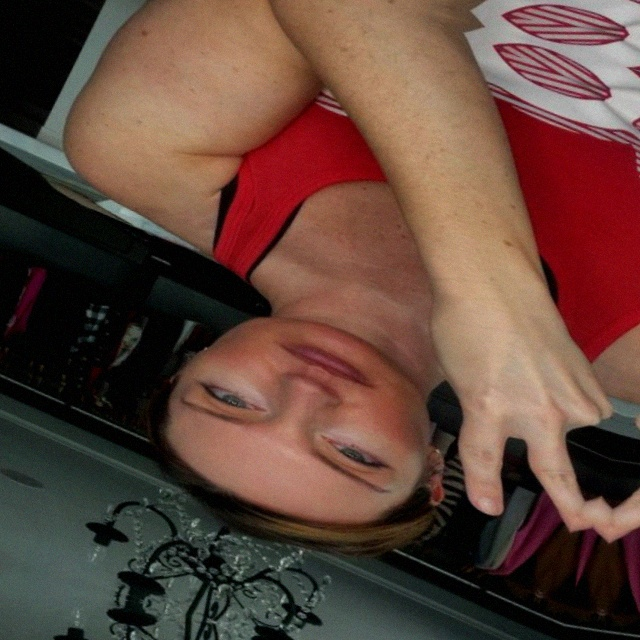Scissors: (369, 281, 640, 554)
